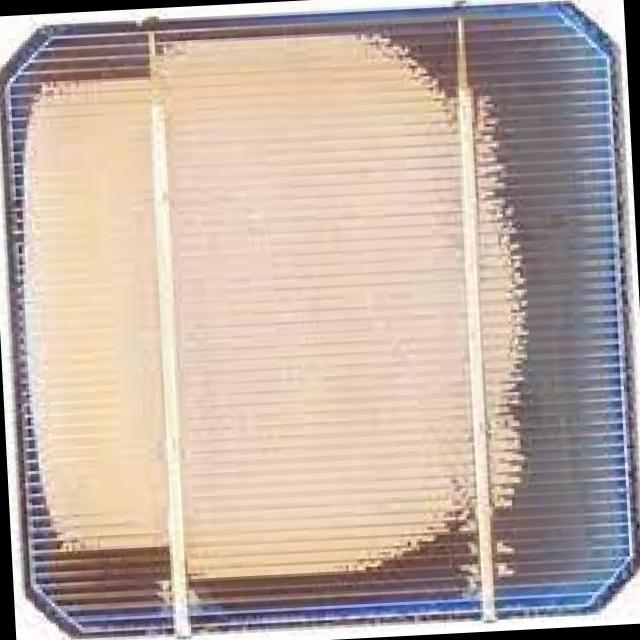faulty: (1, 9, 620, 615)
